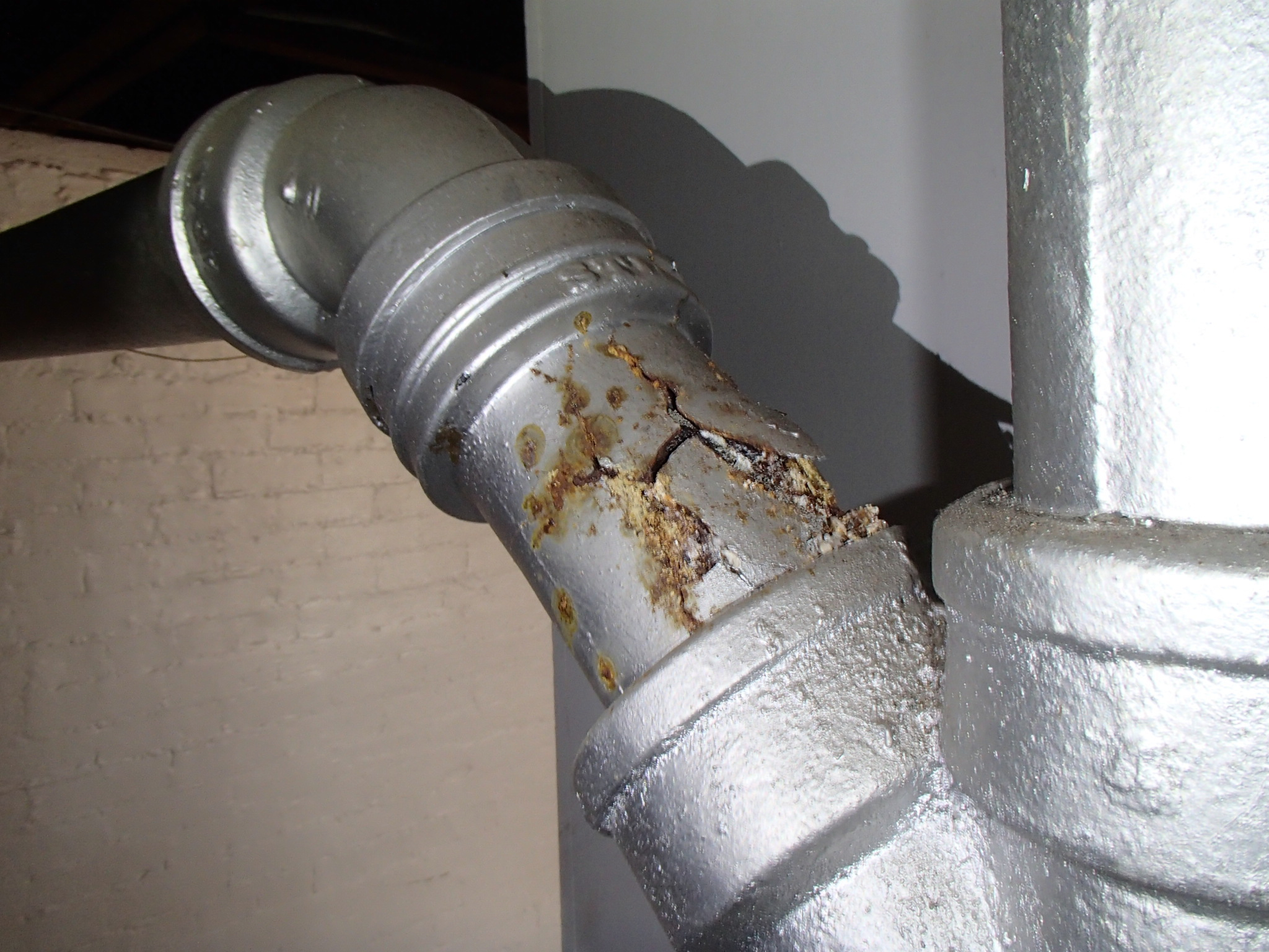crack: (622, 347, 748, 493)
